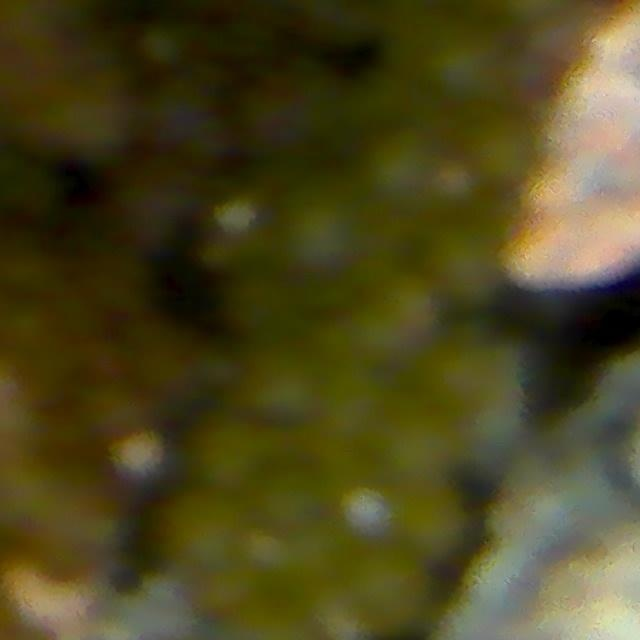SeaGrape: (342, 276, 439, 360), (362, 402, 455, 488), (151, 495, 241, 581), (422, 211, 503, 301), (230, 348, 321, 428), (426, 31, 509, 112), (193, 416, 274, 497), (350, 559, 441, 630), (351, 125, 424, 212), (279, 207, 360, 283), (473, 115, 551, 192), (254, 461, 341, 529), (389, 477, 460, 558), (183, 563, 245, 630), (425, 157, 481, 215)
